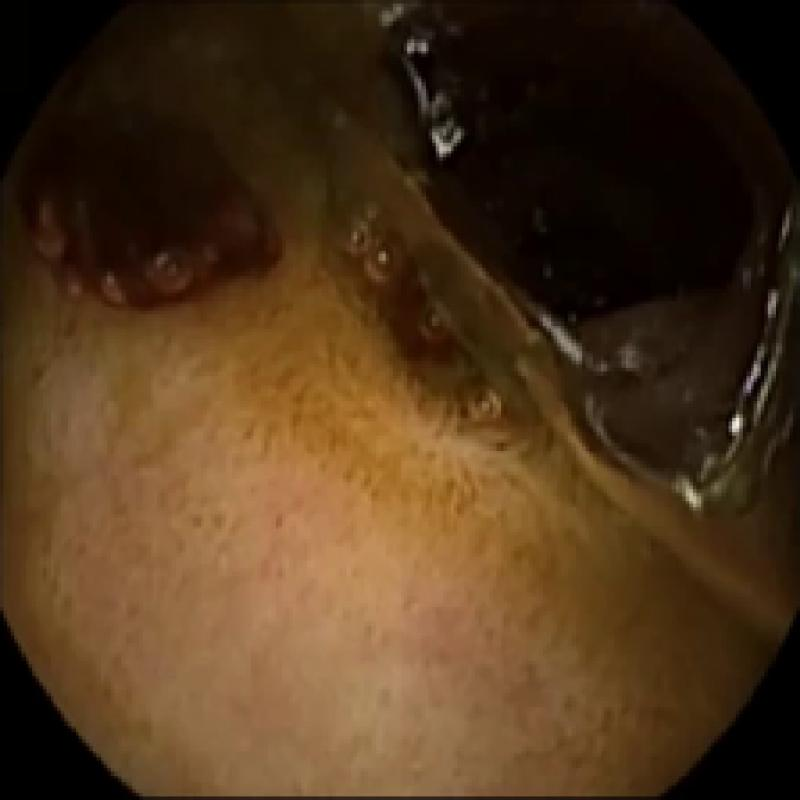bleeding: (21, 96, 290, 322), (382, 242, 468, 372)
